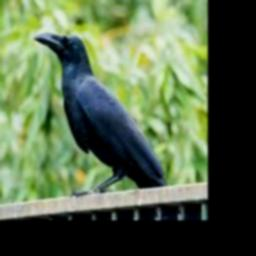Crow: (33, 32, 179, 219)
